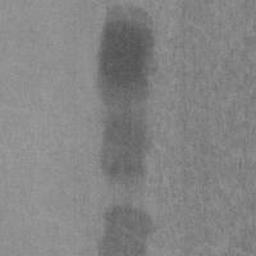Oil spot: (95, 6, 156, 192), (99, 206, 157, 256)
